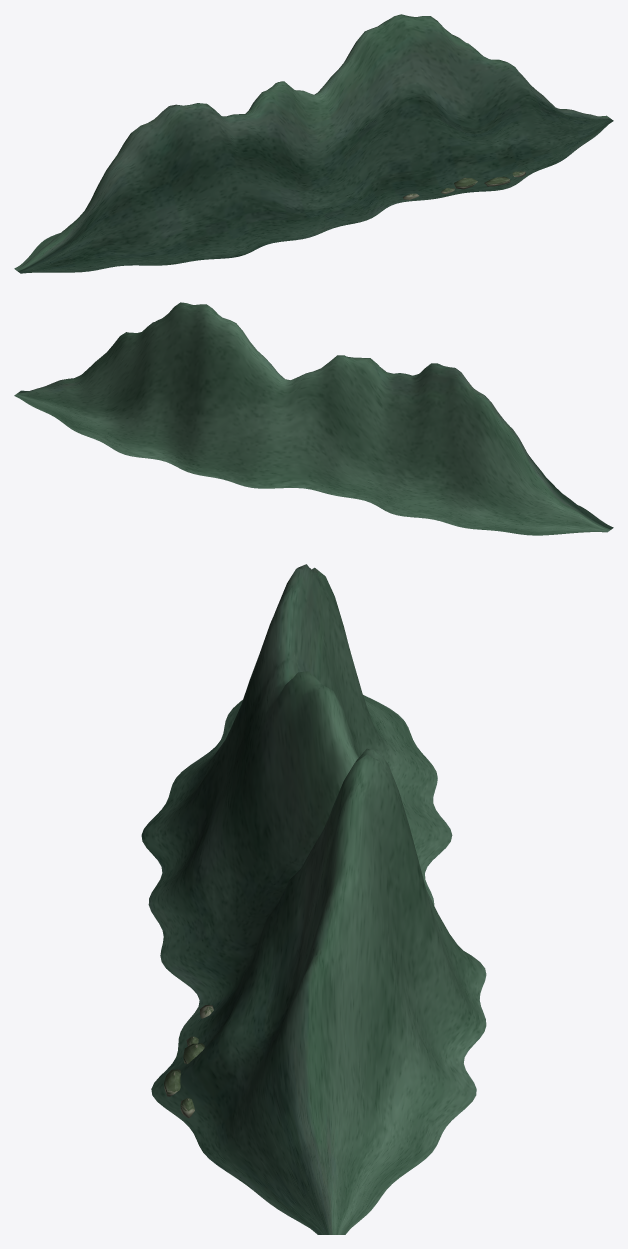
File: jiangnan_misty_hills_horizon.glb
The picture shows the model from 3 angles, top to bottom: view 1: azimuth 30°, elevation 25°; view 2: azimuth 150°, elevation 25°; view 3: azimuth 270°, elevation 25°; orthographic projection. The views are drawn at different scales.
Visible parts, largest first — view 1: jiangnan_misty_hills_horizon; view 2: jiangnan_misty_hills_horizon; view 3: jiangnan_misty_hills_horizon.
Part boxes in pixels (bbox=[...]): jiangnan_misty_hills_horizon: bbox=[14, 14, 613, 273]; jiangnan_misty_hills_horizon: bbox=[14, 302, 613, 535]; jiangnan_misty_hills_horizon: bbox=[141, 564, 486, 1234].
Size of the model in its own units: 94 by 22.4 by 24.
Materials: 1 (1 with a texture image).
